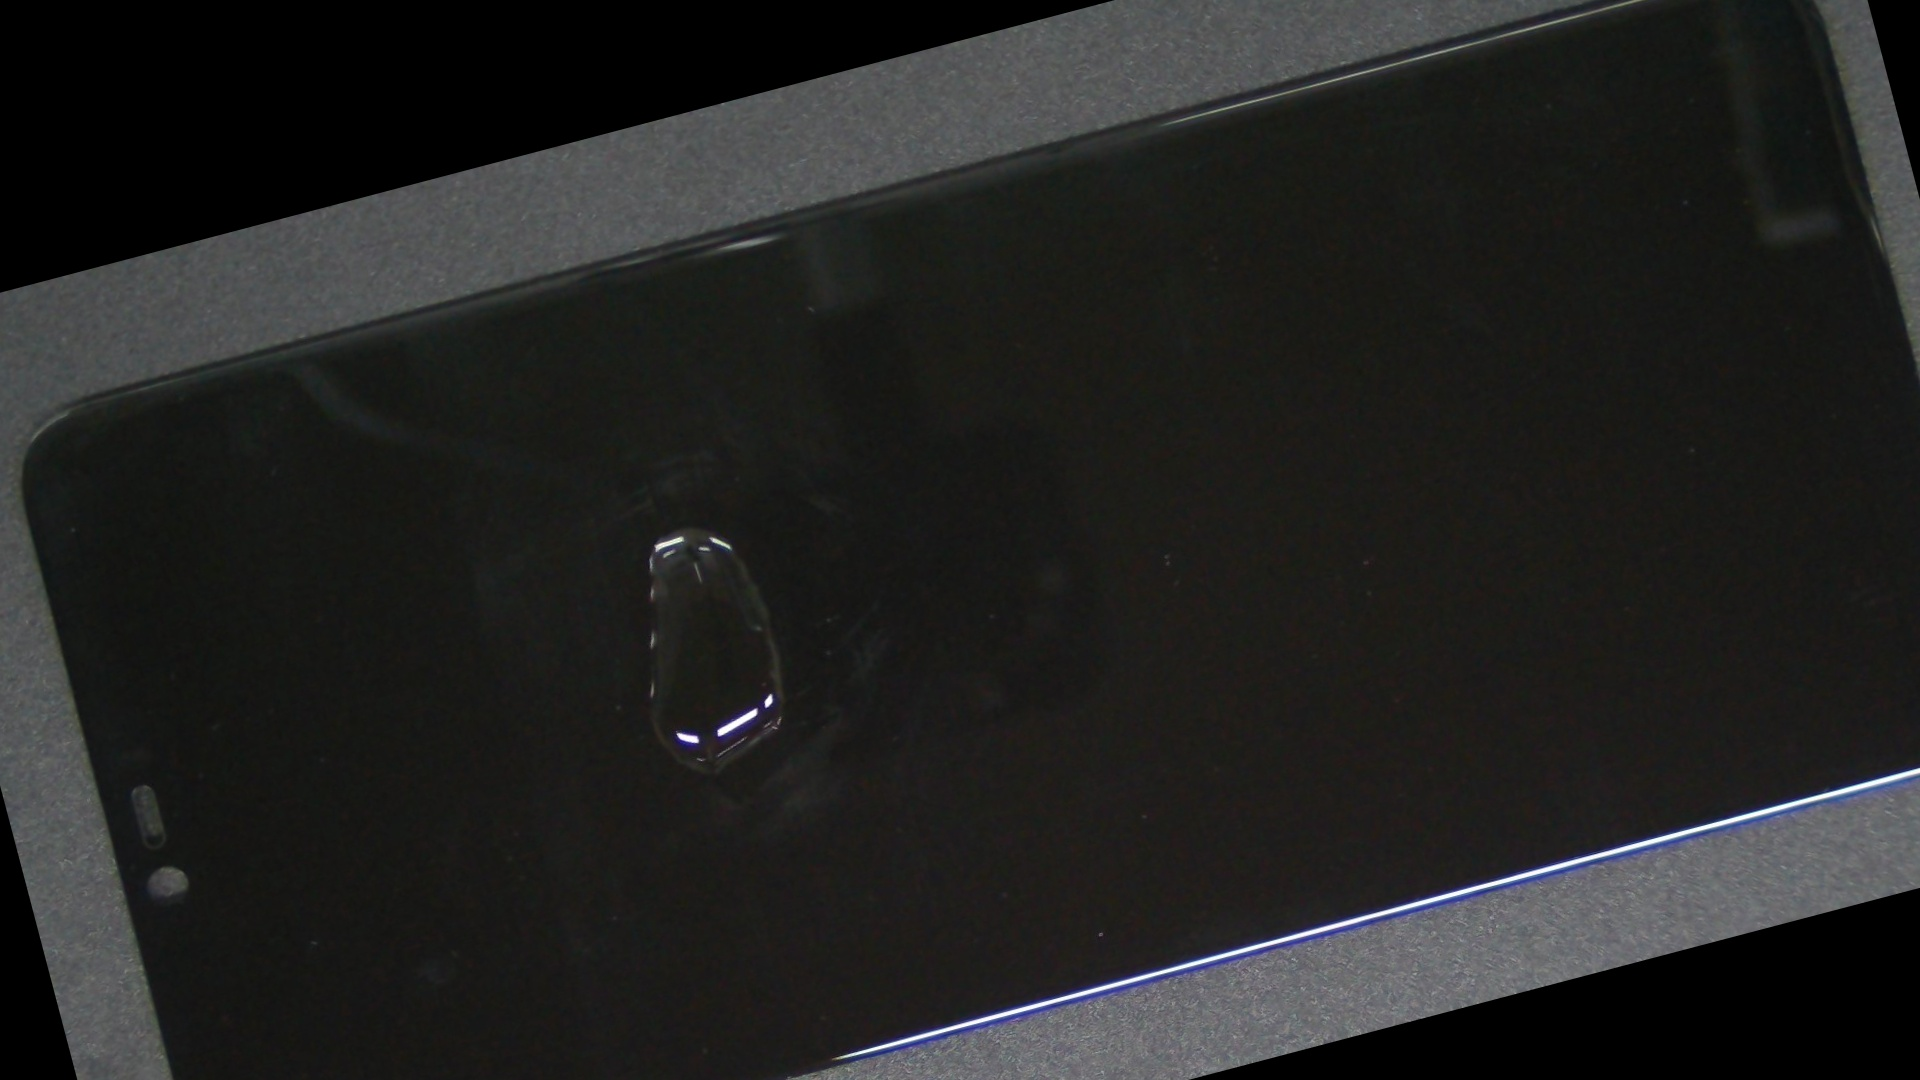oil: (281, 241, 1084, 814)
